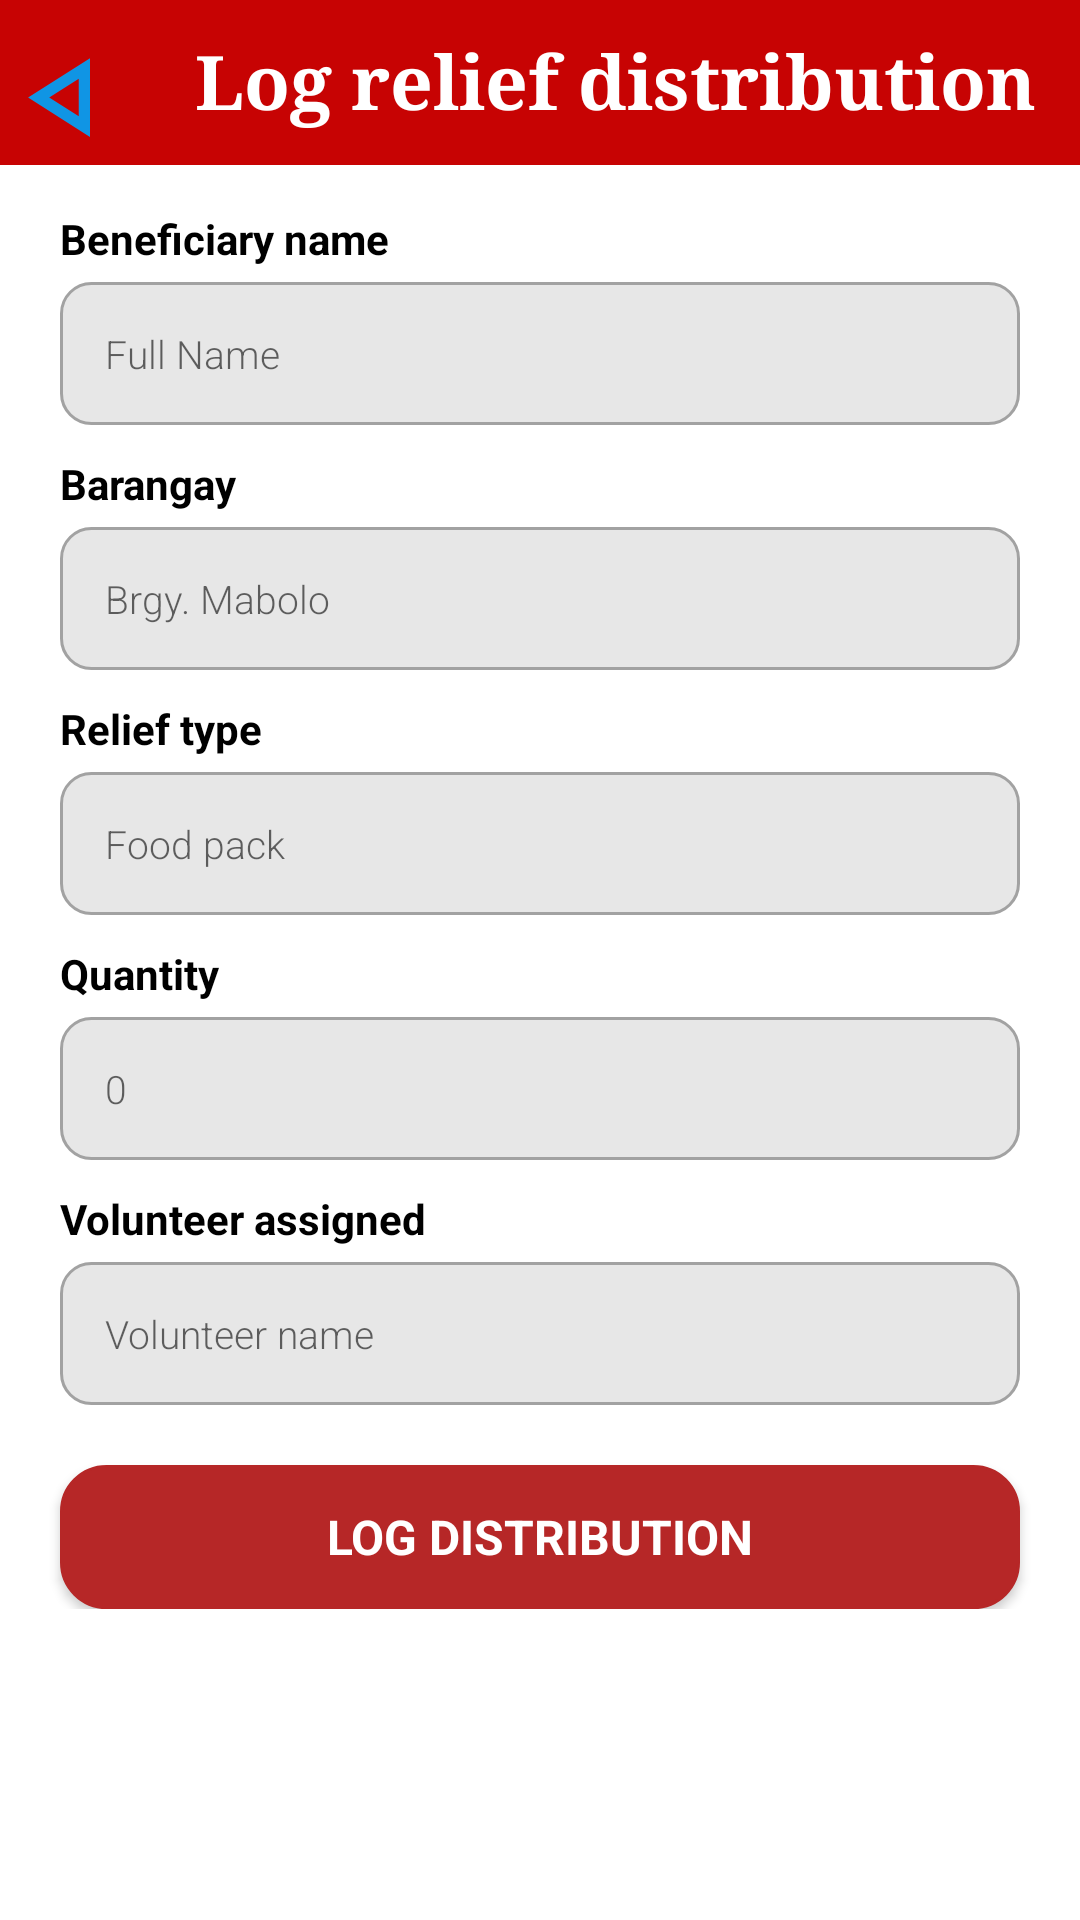

Icon bounding boxes for this 1080px x 1920px phone screenshot, format (x1, y1, x2, y2):
back: (28, 58, 90, 137)
